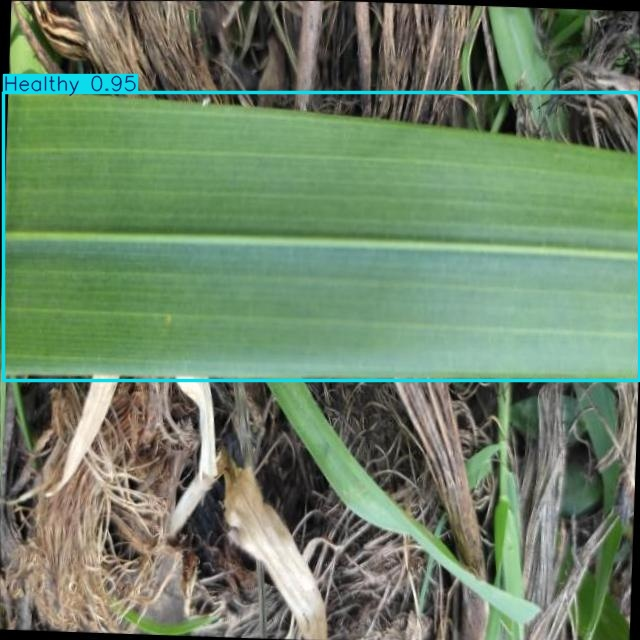Healthy: (3, 93, 639, 380)
